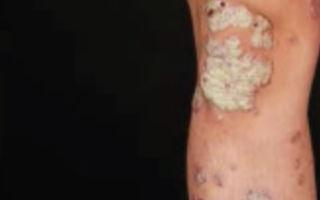plaque psoriasis: (201, 0, 273, 114), (191, 164, 225, 200), (233, 185, 299, 200)
